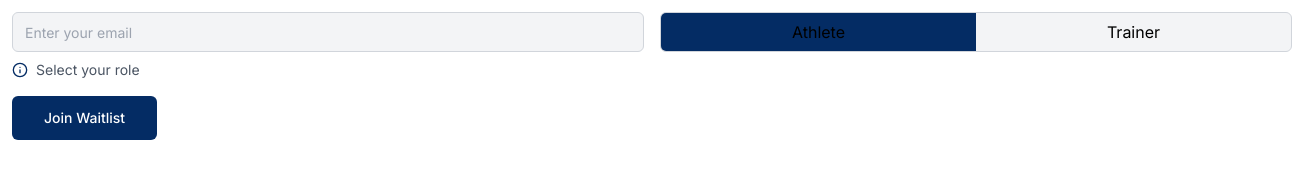
Test: WaitlistForm › submits form successfully with valid data
The width and height of the screenshot is (1304, 191).
// Fill in email
Type "test@example.com" into the field with placeholder "Enter your email" at (328, 32), box [12, 12, 644, 52]
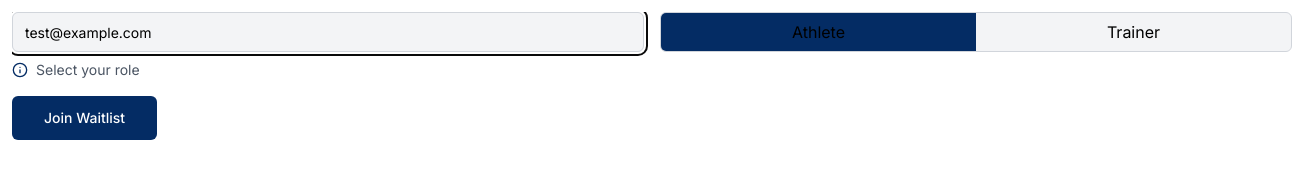
// Select role
Click the button "Athlete" at (818, 32), box [661, 13, 976, 51]
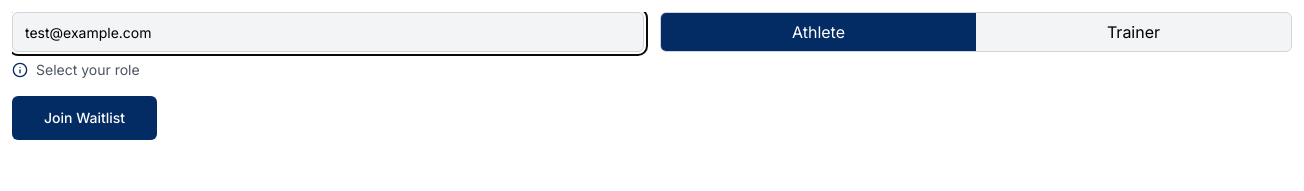
// Submit form
Click the button "Join Waitlist" at (85, 118), box [12, 96, 157, 140]
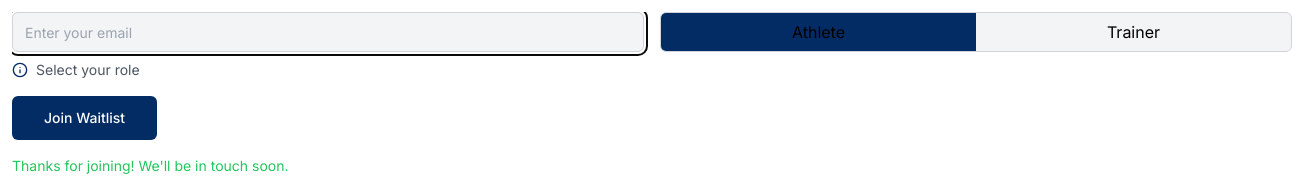
expect the text "Thanks for joining! We'll be in touch soon." is shown: met, box [12, 157, 288, 174]
